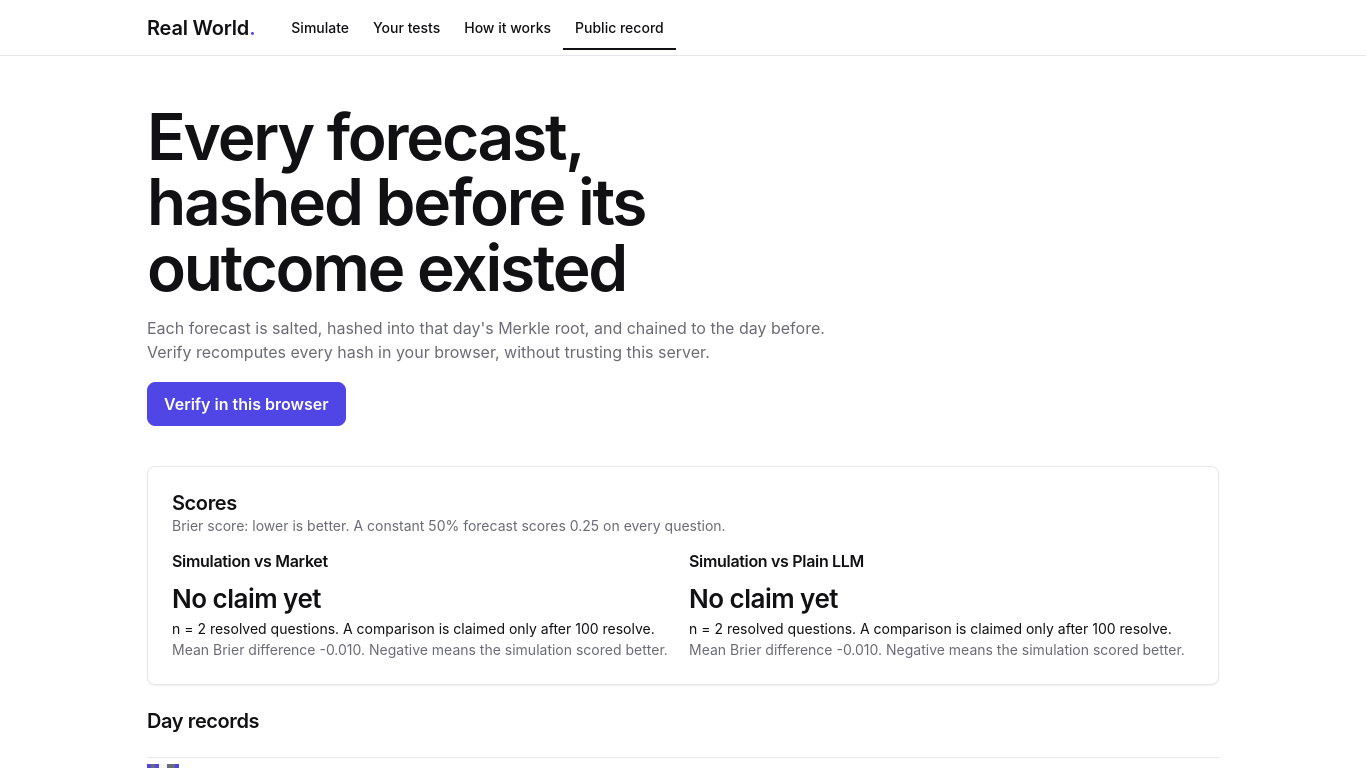
Test: the receipts page verifies the served chain and states the reference and claim
Click the button "Verify in this browser".
click(246, 404)  # box [147,382,346,426]
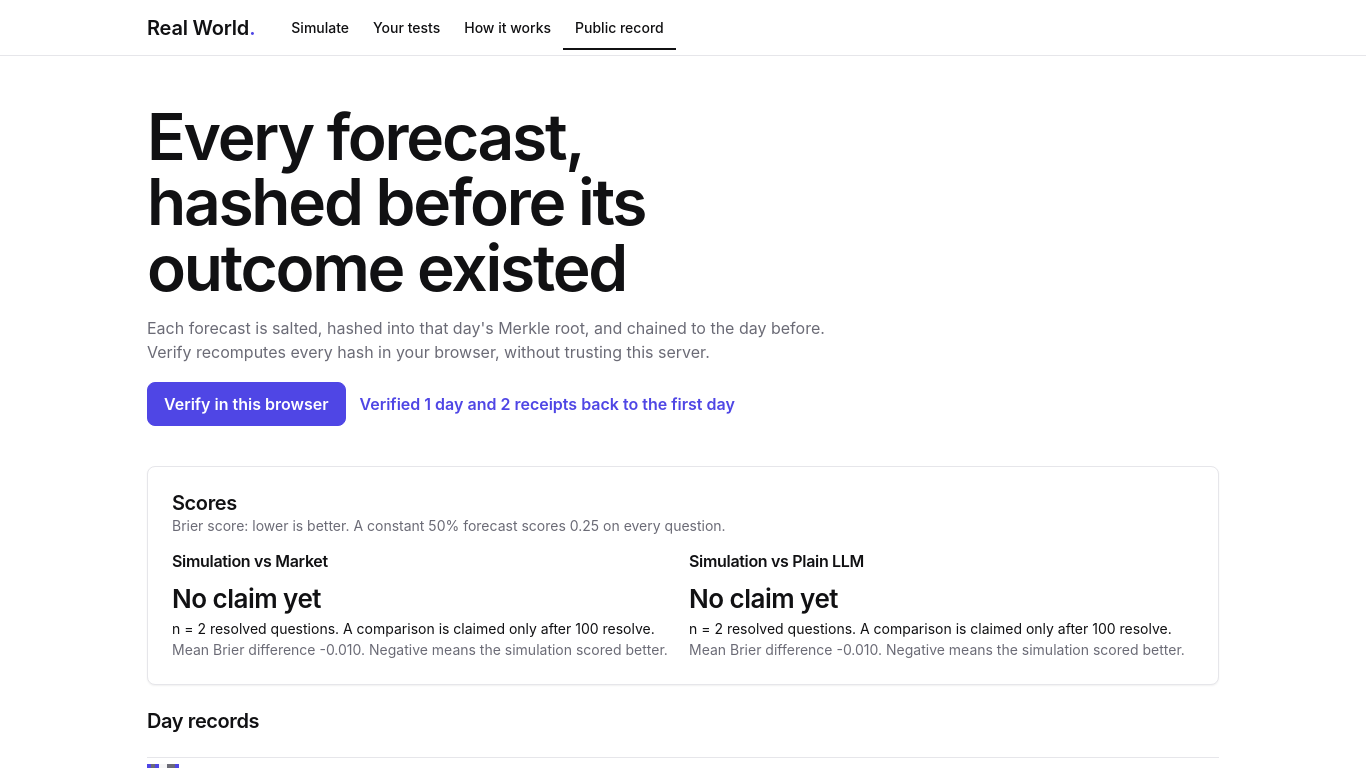
Check: the text "Verified 1 day and 2 receipts back to the first day" is shown, box [360,392,735,416]
